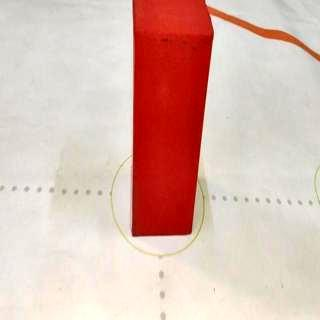redbox: (130, 0, 214, 237)
